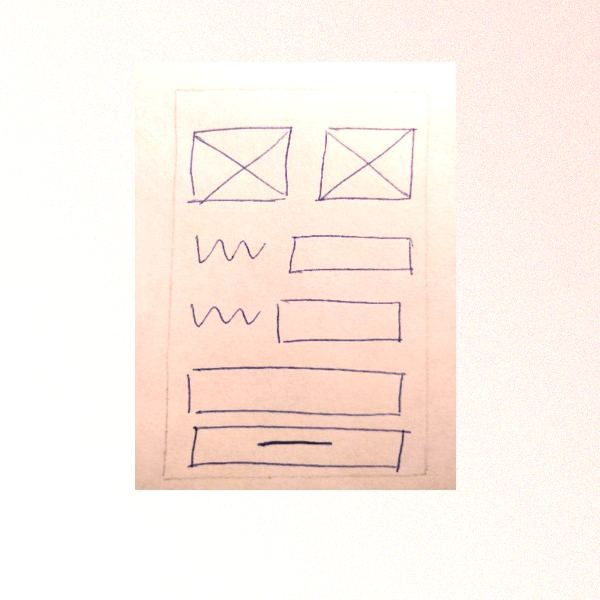button: (184, 422, 411, 474)
image: (311, 119, 421, 207), (184, 123, 299, 206)
text: (184, 293, 269, 338), (189, 226, 271, 271)
text_input: (181, 361, 409, 421), (271, 294, 408, 349), (284, 229, 421, 283)
